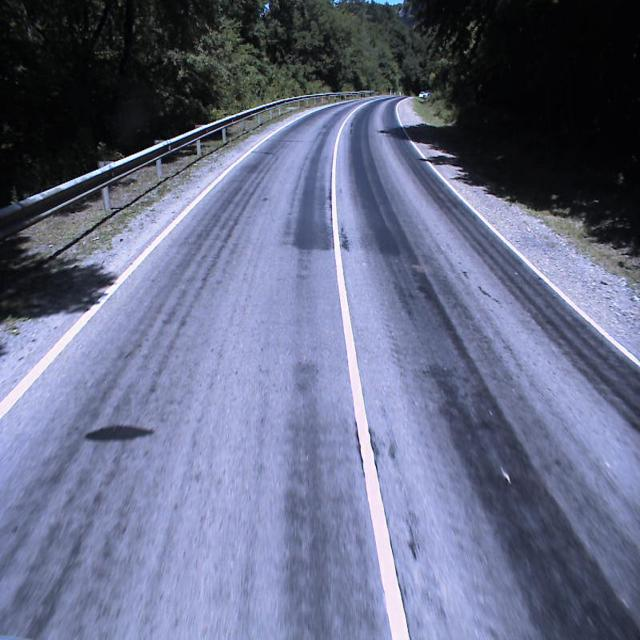road: (0, 96, 640, 639)
